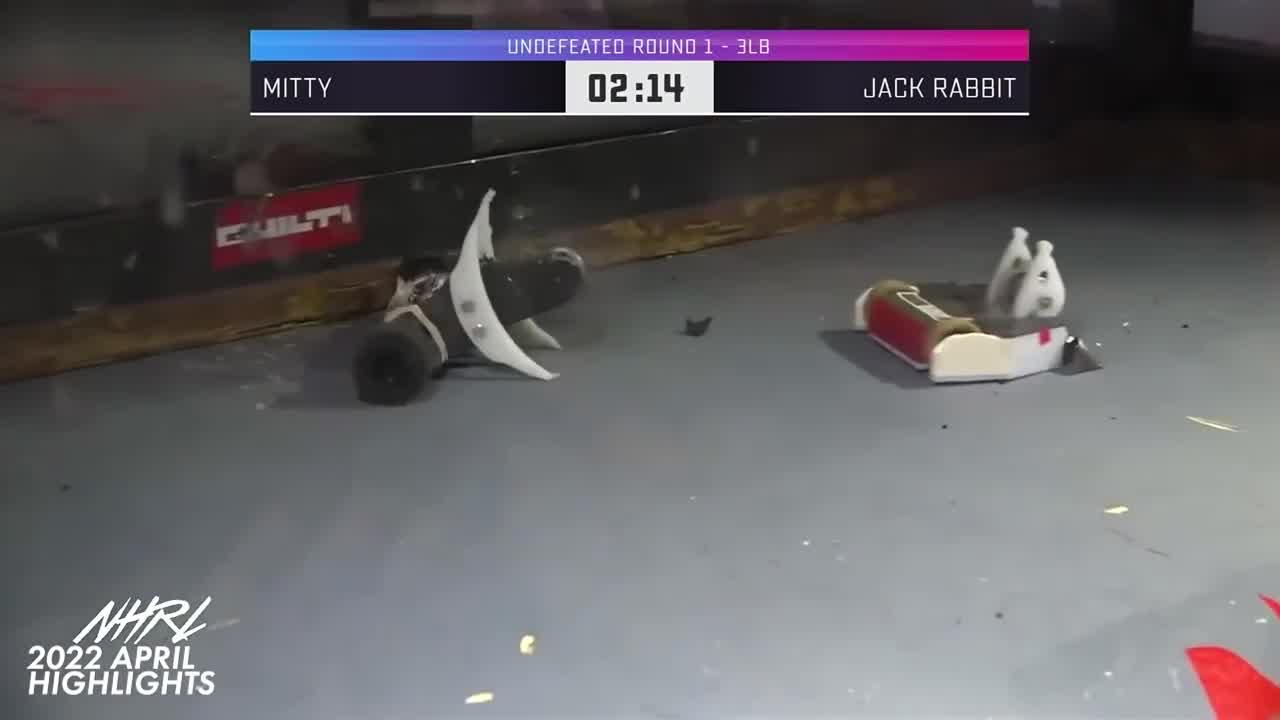combatbot: (357, 186, 587, 411), (848, 229, 1098, 382)
debris: (681, 313, 715, 339)
